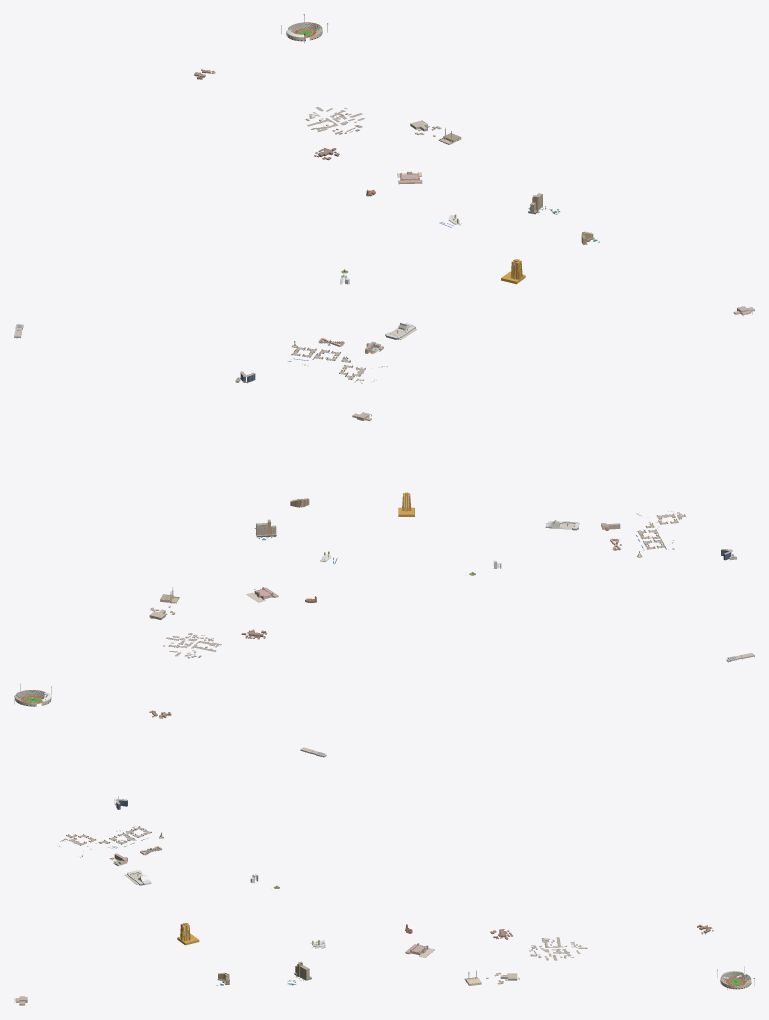
File: landmarks.glb
3 views of the same model, one above another, from view 1: azimuth 30°, elevation 25°; view 2: azimuth 150°, elevation 25°; view 3: azimuth 270°, elevation 25° (orthographic). The views are drawn at different scales.
Visible parts, largest first — view 1: Cite_Administrative_bk, LM_Stade_Modibo_Keita_bk; view 2: Cite_Administrative_bk, LM_Stade_Modibo_Keita_bk; view 3: Cite_Administrative_bk, LM_Stade_Modibo_Keita_bk, CHU_Gabriel_Toure_bk.
Boxes of the visible parts, x1=… form: Cite_Administrative_bk: x1=287, y1=346, x2=387, y2=383; LM_Stade_Modibo_Keita_bk: x1=281, y1=14, x2=327, y2=42; Cite_Administrative_bk: x1=636, y1=510, x2=685, y2=550; LM_Stade_Modibo_Keita_bk: x1=14, y1=684, x2=51, y2=706; Cite_Administrative_bk: x1=57, y1=826, x2=151, y2=857; LM_Stade_Modibo_Keita_bk: x1=717, y1=966, x2=754, y2=989; CHU_Gabriel_Toure_bk: x1=529, y1=937, x2=587, y2=960.
Bounding box in the file's own units: 3383 × 115 × 4122.
Materials: 25 (25 with a texture image).
